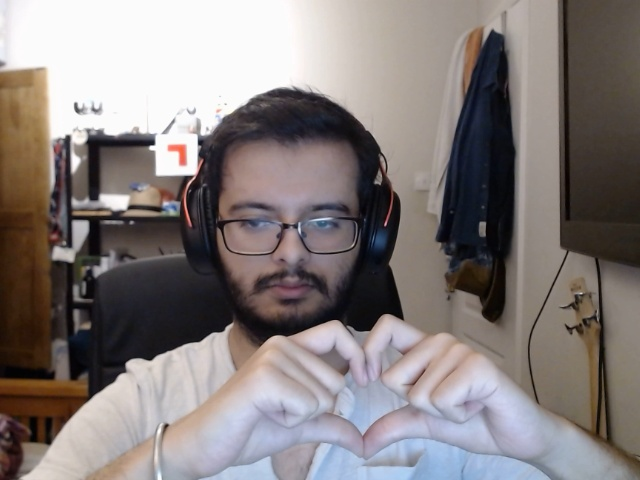Heart: (194, 313, 549, 470)
